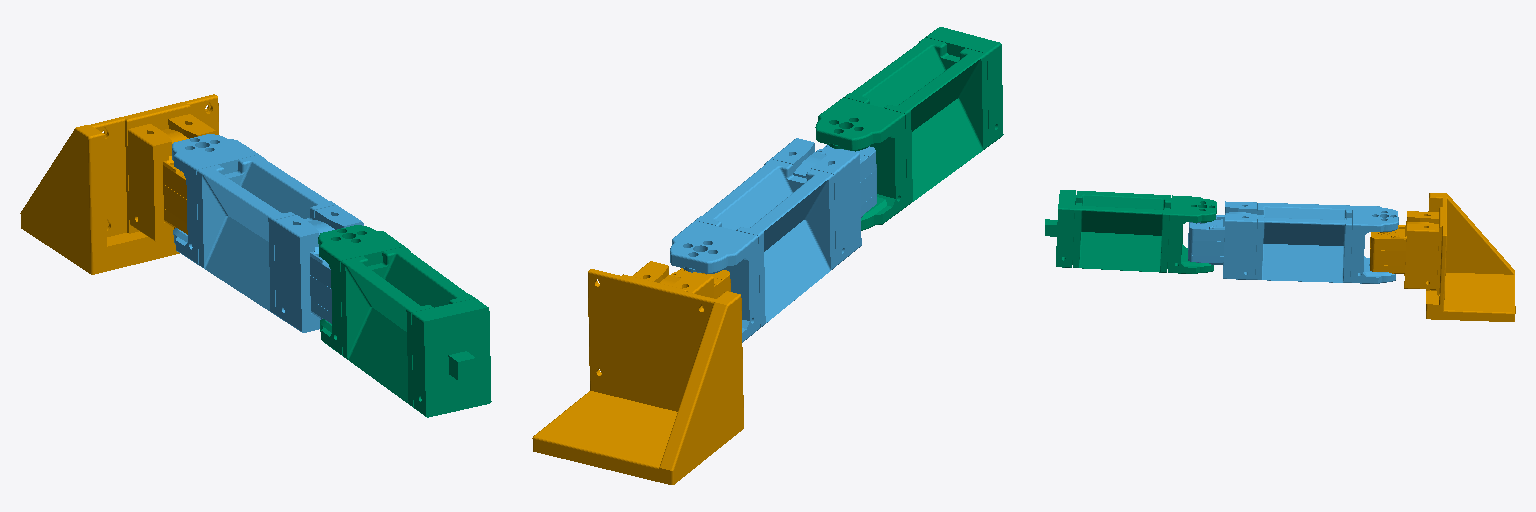
The robot description file, URDF, robot "main_v4":
<?xml version='1.0' encoding='utf-8'?>
<robot name="main_v4">
    <link name="base">
        <inertial>
            <origin xyz="0.0367208385157847 -0.05877924059599297 0.03035113568198441" rpy="0.0 0.0 0.0" />
            <mass value="0.16256946131977623" />
            <inertia ixx="0.00017970595782280902" iyy="0.00014644785038485207" izz="0.00017413231255717184" ixy="1.751202160908337e-05" iyz="5.171176196019638e-05" ixz="-1.4575498812332502e-06" />
        </inertial>
        <visual name="base_visual">
            <origin xyz="0.0 0.0 0.0" rpy="0.0 0.0 0.0" />
            <geometry>
                <mesh filename="meshes/base.stl" scale="0.001 0.001 0.001" />
            </geometry>
        </visual>
        <collision name="base_collision">
            <origin xyz="0.0 0.0 0.0" rpy="0.0 0.0 0.0" />
            <geometry>
                <mesh filename="meshes/base.stl" scale="0.001 0.001 0.001" />
            </geometry>
        </collision>
    </link>
    <link name="link_1">
        <inertial>
            <origin xyz="-0.0004040334612339436 -0.07565794375588653 -0.017213270157364" rpy="0.0 -0.0 0.0" />
            <mass value="0.16513007074528468" />
            <inertia ixx="0.00035494035177145093" iyy="5.087273319533341e-05" izz="0.0003340269856048364" ixy="-1.124018465970269e-06" iyz="7.91926986807597e-07" ixz="1.7263005908440274e-08" />
        </inertial>
        <visual name="link_1_visual">
            <origin xyz="-0.10833016126659875 0.12429449250177381 -0.1380819937403632" rpy="-1.547158909242781 -0.061548426573623756 -2.879793265790644" />
            <geometry>
                <mesh filename="meshes/link_1.stl" scale="0.001 0.001 0.001" />
            </geometry>
        </visual>
        <collision name="link_1_collision">
            <origin xyz="-0.10833016126659875 0.12429449250177381 -0.1380819937403632" rpy="-1.547158909242781 -0.061548426573623756 -2.879793265790644" />
            <geometry>
                <mesh filename="meshes/link_1.stl" scale="0.001 0.001 0.001" />
            </geometry>
        </collision>
    </link>
    <link name="link_2">
        <inertial>
            <origin xyz="0.006017906114845317 -0.018265134743555997 0.058773801005797245" rpy="0.0 7.365798509323396e-18 2.168404344971009e-19" />
            <mass value="0.1273120312209469" />
            <inertia ixx="0.00019671461926816047" iyy="0.00017910971160528007" izz="4.4405094471197445e-05" ixy="2.8484990396465616e-07" iyz="2.2905675108640962e-06" ixz="-1.5663032608272618e-05" />
        </inertial>
        <visual name="link_2_visual">
            <origin xyz="-0.12404457071608391 -0.13492884094682622 -0.2616261329631676" rpy="0.028326194634204157 -0.32364453210216815 3.0820552932671457" />
            <geometry>
                <mesh filename="meshes/link_2.stl" scale="0.001 0.001 0.001" />
            </geometry>
        </visual>
        <collision name="link_2_collision">
            <origin xyz="-0.12404457071608391 -0.13492884094682622 -0.2616261329631676" rpy="0.028326194634204157 -0.32364453210216815 3.0820552932671457" />
            <geometry>
                <mesh filename="meshes/link_2.stl" scale="0.001 0.001 0.001" />
            </geometry>
        </collision>
    </link>
    <joint name="base_base_to_link_1" type="revolute">
        <origin xyz="0.04354782999999999 -0.10386320999999996 0.03154767999999999" rpy="-3.1028777028551056 0.001238433860585296 -3.1415446837272887" />
        <parent link="base" />
        <child link="link_1" />
        <axis xyz="3.623425268680421e-07 2.2431666058669864e-07 1.0000000873229056" />
        <limit lower="-1.308997" upper="1.832596" effort="1000000" velocity="1000000" />
    </joint>
    <joint name="link_1_link_1_to_link_2" type="revolute">
        <origin xyz="-0.00044083582236210006 -0.14240131715349383 -0.0029494878055506615" rpy="1.5556711443383184 0.0003096405292739062 -0.06154142487825148" />
        <parent link="link_1" />
        <child link="link_2" />
        <axis xyz="-0.00030929269085107325 0.9998856598192851 0.015124360210736397" />
        <limit lower="-1.745329" upper="1.396263" effort="1000000" velocity="1000000" />
    </joint>
</robot>

--- What the picture shows (computed from the rendered views, not written in the file) ---
Views: 3 orthographic renders of the robot side by side, from view 1: azimuth 30°, elevation 25°; view 2: azimuth 150°, elevation 25°; view 3: azimuth 270°, elevation 25°.
Model main_v4 with 3 links and 2 joints (2 revolute), rooted at base, posed all joints at 0.
Links seen in each view (by area): view 1: link_2, link_1, base; view 2: base, link_1, link_2; view 3: link_1, base, link_2.
Boxes of the visible links, x1,y1,x2,y2 form: link_2: (318, 225, 491, 417); link_1: (172, 134, 363, 332); base: (20, 94, 218, 274); base: (532, 261, 743, 484); link_1: (670, 138, 876, 342); link_2: (815, 27, 1003, 230); link_1: (1188, 201, 1398, 283); base: (1370, 193, 1515, 321); link_2: (1045, 190, 1216, 273).
Size in the robot's own frame: 0.0791 by 0.3686 by 0.0884 metres.
3 mesh visuals loaded from 3 distinct referenced files (3 binary STL).